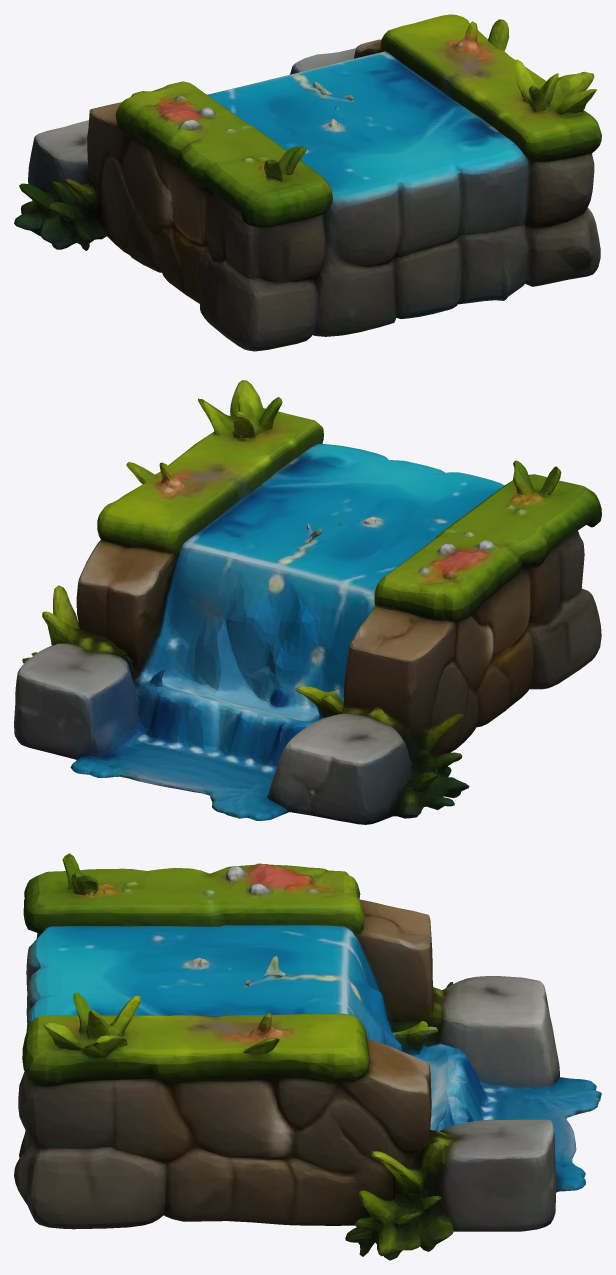
3 views of the same model, one above another, from view 1: azimuth 30°, elevation 25°; view 2: azimuth 150°, elevation 25°; view 3: azimuth 270°, elevation 25° (orthographic). The views are drawn at different scales.
Visible parts, largest first — view 1: world; view 2: world; view 3: world.
Boxes of the visible parts, x1,y1,x2,y2 form: world: [14, 14, 601, 351]; world: [14, 380, 601, 824]; world: [14, 853, 601, 1260].
Bounding box in the file's own units: 0.9628 × 0.4268 × 0.9665.
1 material, 1 textured.
